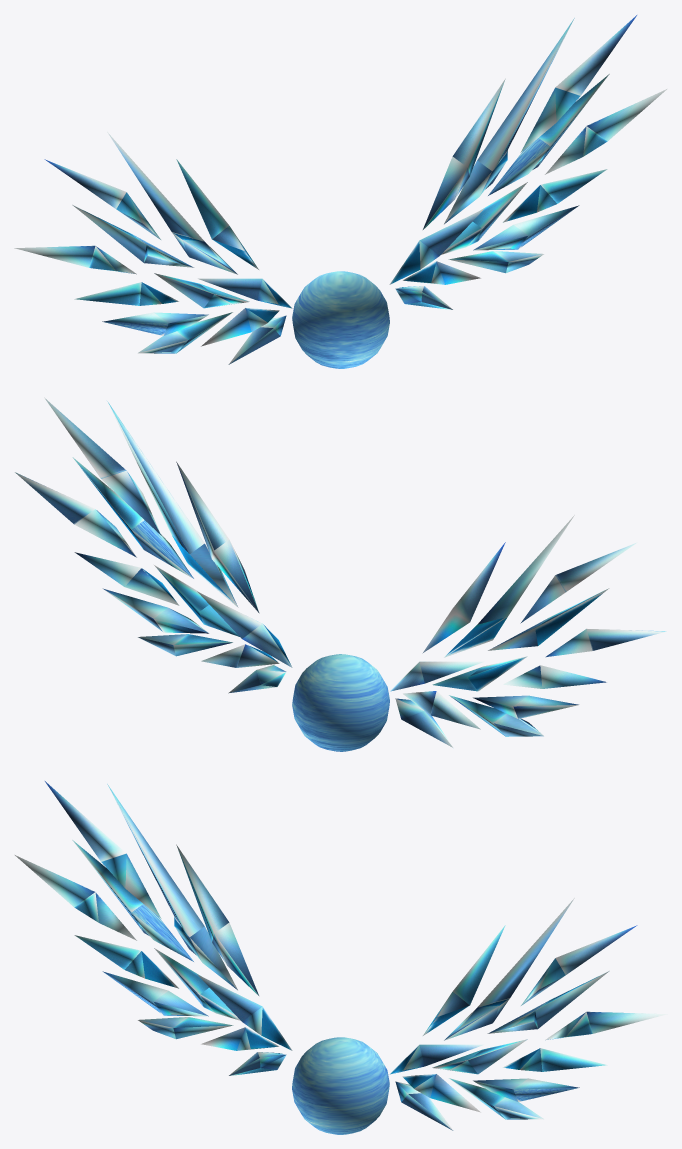
File: pp.ico.obj
The picture shows the model from 3 angles, top to bottom: view 1: azimuth 30°, elevation 25°; view 2: azimuth 150°, elevation 25°; view 3: azimuth 330°, elevation 25°; orthographic projection.
Size of the model in its own units: 4.73 by 2.01 by 0.6177.
1 material, 1 textured.
